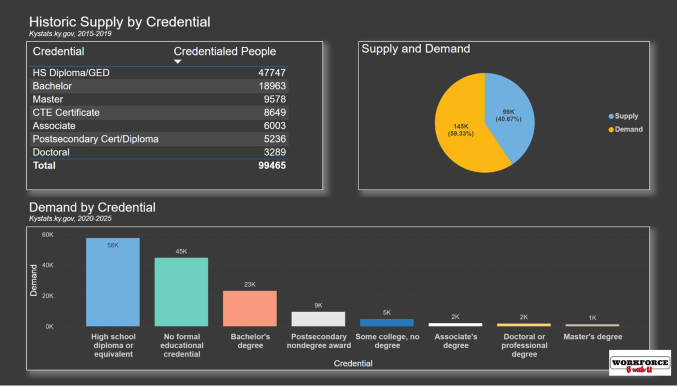

This screenshot's page, from the dashboard's own definition file:
{"tool":"powerbi","page":{"name":"Slide 4 - Supply vs Demand","canvas":[1280,720],"ordinal":4},"visuals":[{"type":"tableEx","fields":{"Values":["Total Historic Supply (2).Column1","Sum(Total Historic Supply (2).Credentialed People)"]},"box":[52.4,79.7,559.3,280.9],"z":0},{"type":"columnChart","title":"Demand by Credential","fields":{"Category":["Total Future Demand.Credential"],"Y":["Sum(Total Future Demand.Demand)"]},"box":[52.4,429.6,1175.8,271.3],"z":1000},{"type":"textbox","box":[52.4,22.6,559.3,57.1],"z":2000},{"type":"pieChart","fields":{"Y":["Sum(Total Historic Supply.Supply)","Sum(Total Future Demand.Demand)"]},"box":[678.3,79.7,549.8,280.9],"z":3000},{"type":"textbox","box":[52.4,374.9,1175.8,54.7],"z":4000}]}

Visuals, with their boxes in screenshot pixels (x1, y1, x2, y2), scaled from the page's 1280x720 canvas onto the 677x386 screenshot:
tableEx - Total Historic Supply (2).Column1 x Sum(Total Historic Supply (2).Credentialed People): 28, 43, 324, 193
"Demand by Credential" columnChart: 28, 230, 650, 376
textbox: 28, 12, 324, 43
pieChart - Sum(Total Historic Supply.Supply) x Sum(Total Future Demand.Demand): 359, 43, 650, 193
textbox: 28, 201, 650, 230
